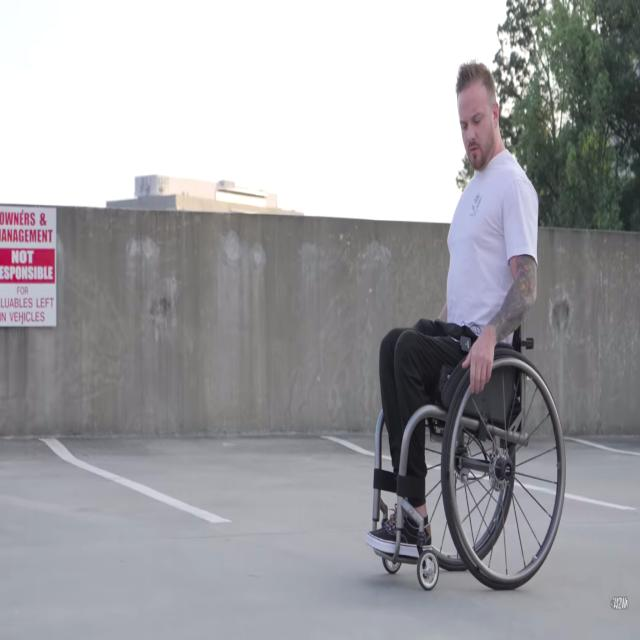wheelchairs: (382, 332, 565, 596)
